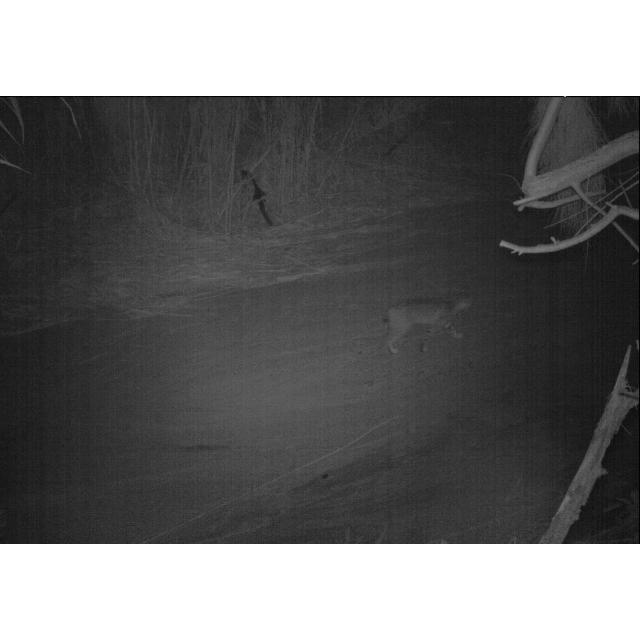animals: (380, 291, 476, 359)
